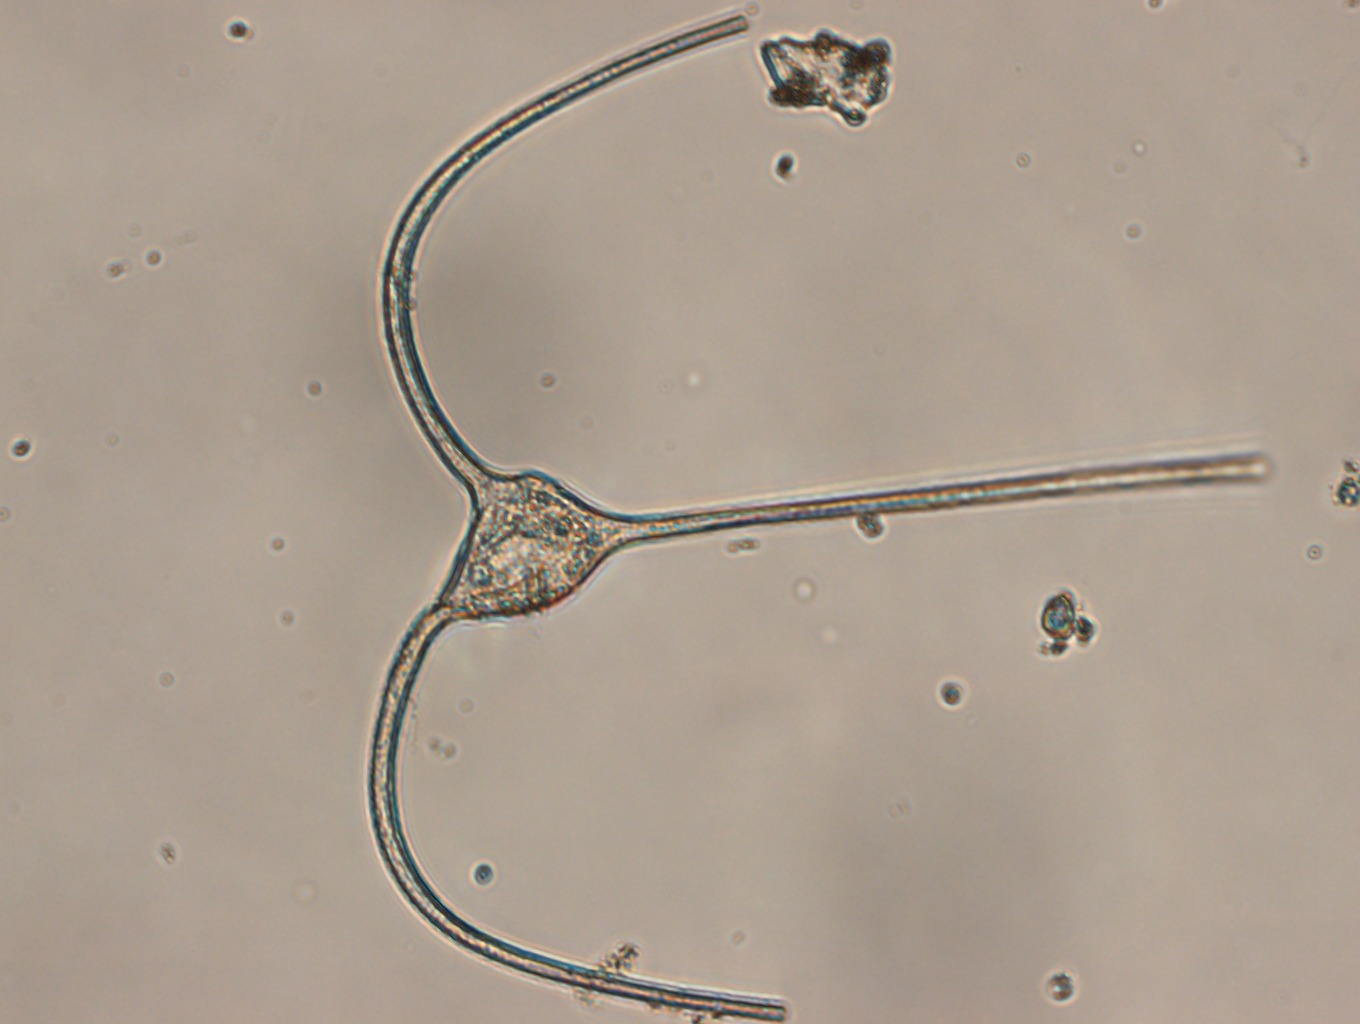ceratium trichoceros: (366, 19, 1269, 1024)
